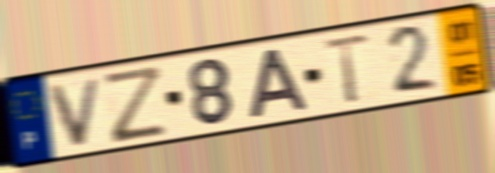2: (386, 21, 440, 102)
8: (186, 56, 237, 128)
A: (245, 46, 312, 122)
T: (321, 30, 372, 107)
V: (47, 74, 106, 150)
Z: (101, 62, 170, 147)
